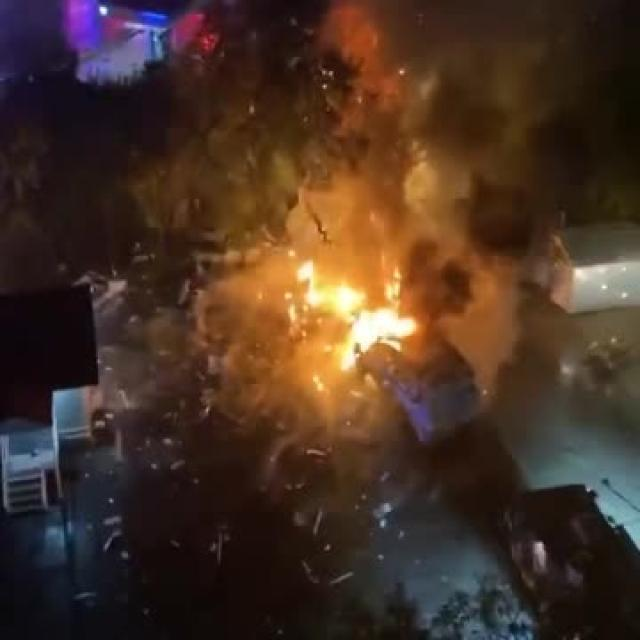Fire: (238, 248, 429, 378)
Smoke: (258, 0, 560, 245)
